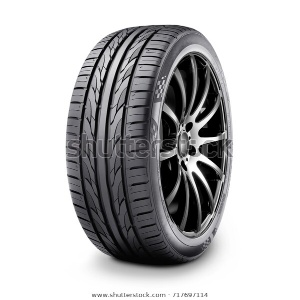tire: (63, 26, 238, 263)
